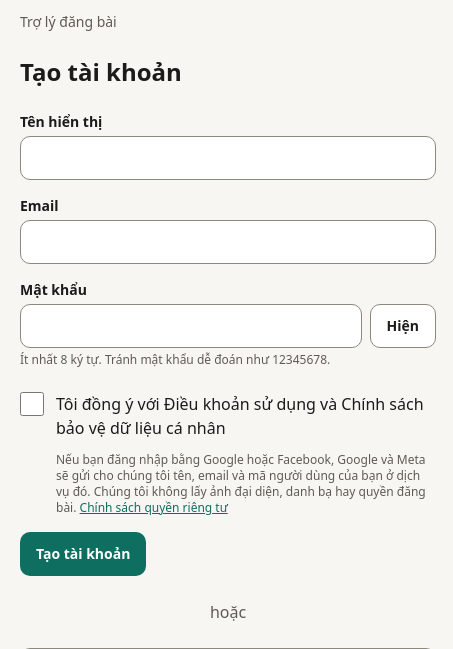
Scenario: RegisterPage › mật khẩu yếu từ máy chủ → lỗi ở ô mật khẩu qua aria-describedby
The width and height of the screenshot is (453, 649).
expect the heading "Tạo tài khoản" is shown: met, box [20,56,182,88]
In the field labelled "Tên hiển thị": {"x": 228, "y": 158} [20,136,436,180], type "Tiệm hoa Lan"
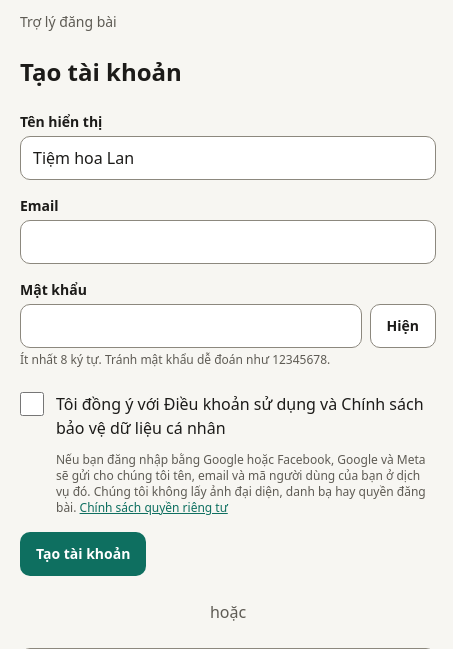
In the field labelled "Email": {"x": 228, "y": 242} [20,220,436,264], type "lan@example.vn"
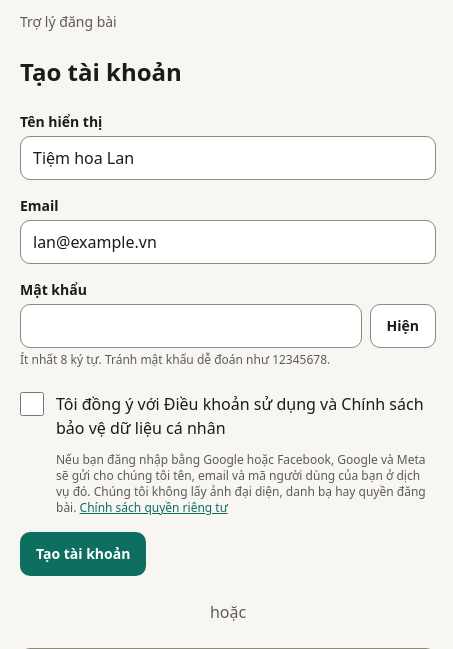
In the password field labelled "Mật khẩu": {"x": 191, "y": 326} [20,304,362,348], type "matkhau123"
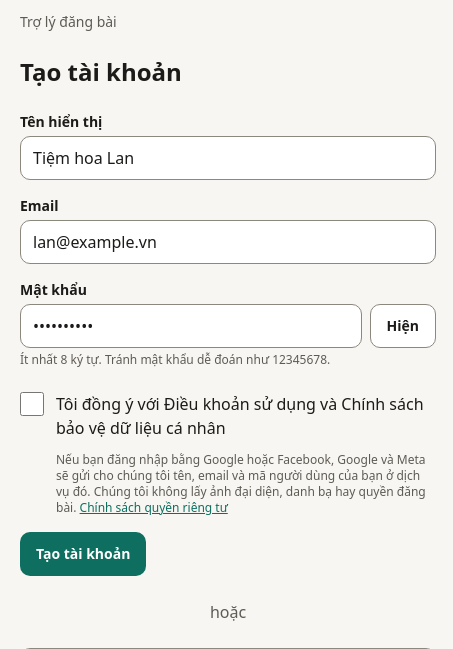
Click the checkbox: {"x": 32, "y": 404} [20,392,44,416]
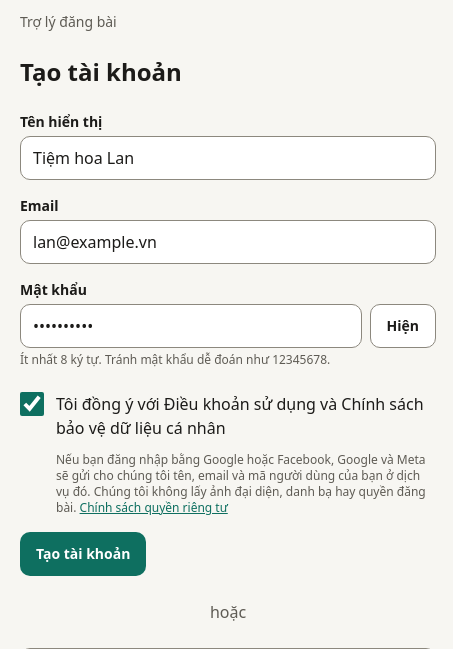
Click the button "Tạo tài khoản": {"x": 83, "y": 554} [20,532,146,576]
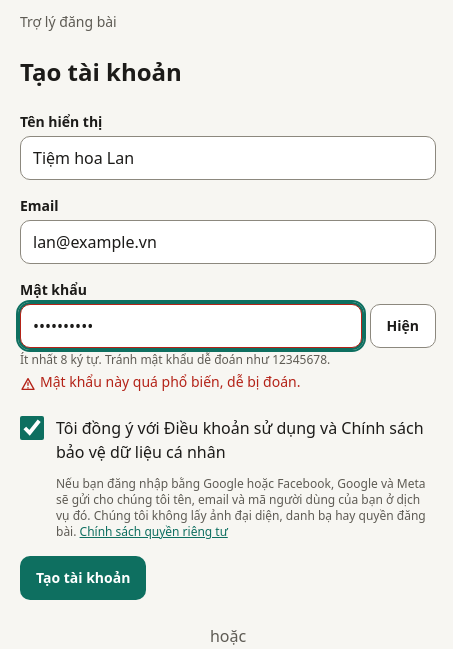
expect the text "Mật khẩu này quá phổ biến, dễ bị đoán." is shown: met, box [40,372,300,392]
